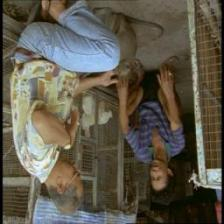monkey: (112, 56, 128, 79)
